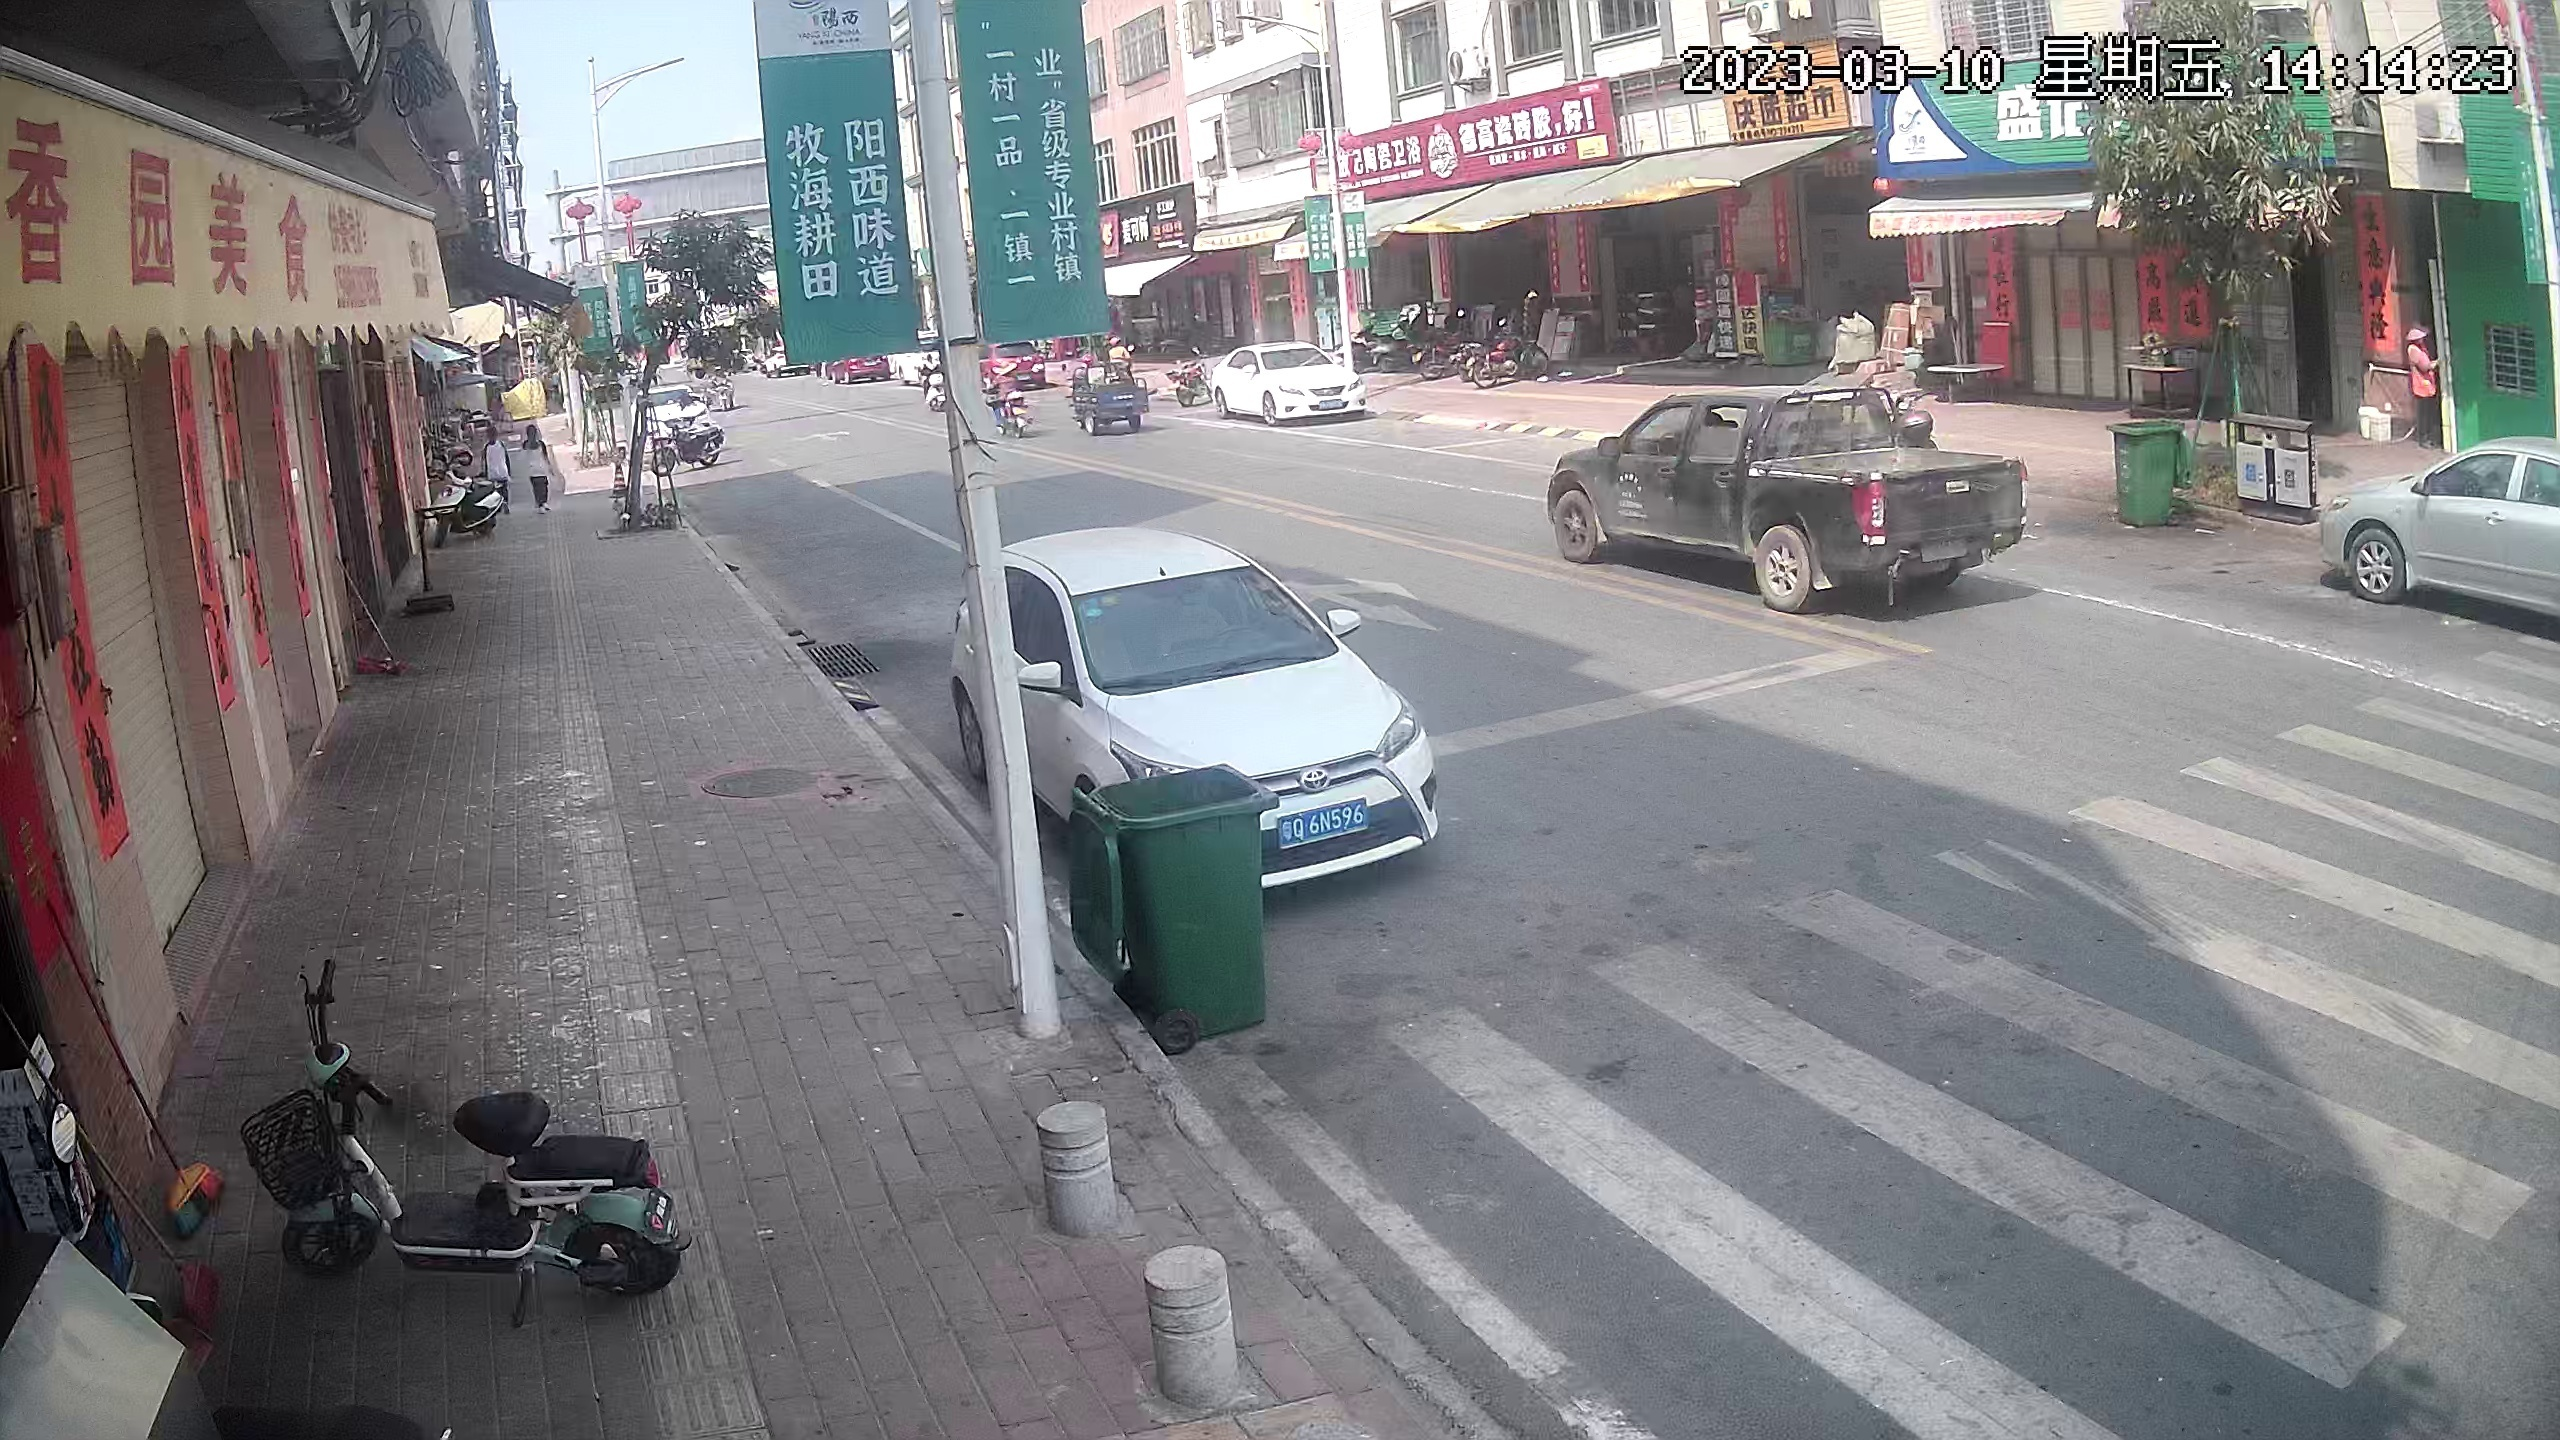motorcycle: (252, 959, 693, 1309), (429, 470, 500, 545), (1475, 324, 1549, 385), (655, 420, 725, 478), (979, 373, 1030, 442), (1414, 328, 1467, 379), (1173, 352, 1209, 415), (909, 357, 944, 414)
person: (2392, 320, 2453, 454), (522, 413, 559, 514), (480, 424, 514, 510)
pickup: (1547, 380, 2024, 597)
sedan: (963, 540, 1440, 878), (2335, 430, 2560, 629), (1215, 343, 1364, 427), (633, 384, 703, 434), (830, 355, 888, 382)
tricycle: (1073, 369, 1150, 435)
